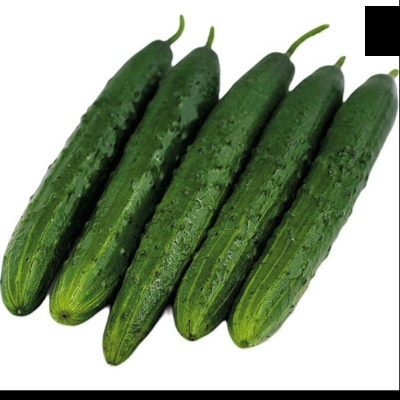cucumber: (106, 41, 293, 361), (188, 54, 346, 342), (60, 38, 217, 321), (8, 33, 164, 313), (242, 83, 389, 348)
